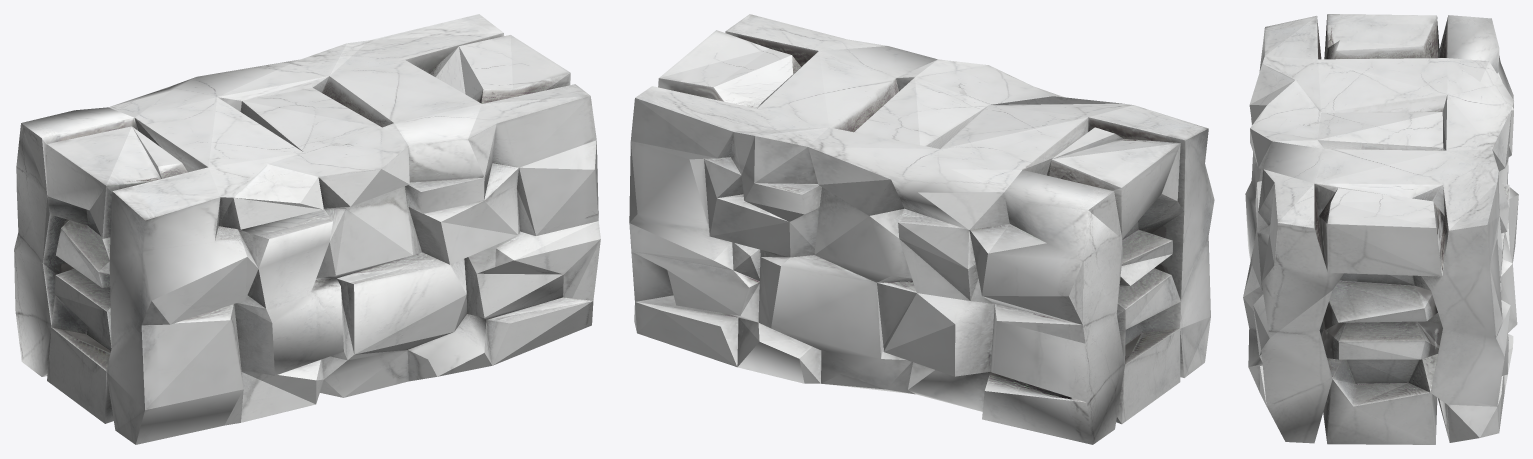
File: ENV_Wall_Straight.fbx
3 renders of one model, left to right at view 1: azimuth 30°, elevation 25°; view 2: azimuth 150°, elevation 25°; view 3: azimuth 270°, elevation 25°, orthographic. The views are drawn at different scales.
Parts seen in each view (by area): view 1: Mesh_0; view 2: Mesh_0; view 3: Mesh_0.
Part boxes in pixels (box(x1,y1,x2,y2)): Mesh_0: box(14, 14, 600, 444); Mesh_0: box(629, 14, 1214, 444); Mesh_0: box(1243, 14, 1518, 444).
Size of the model in its own units: 190 by 95.34 by 105.
1 material, 1 textured.
